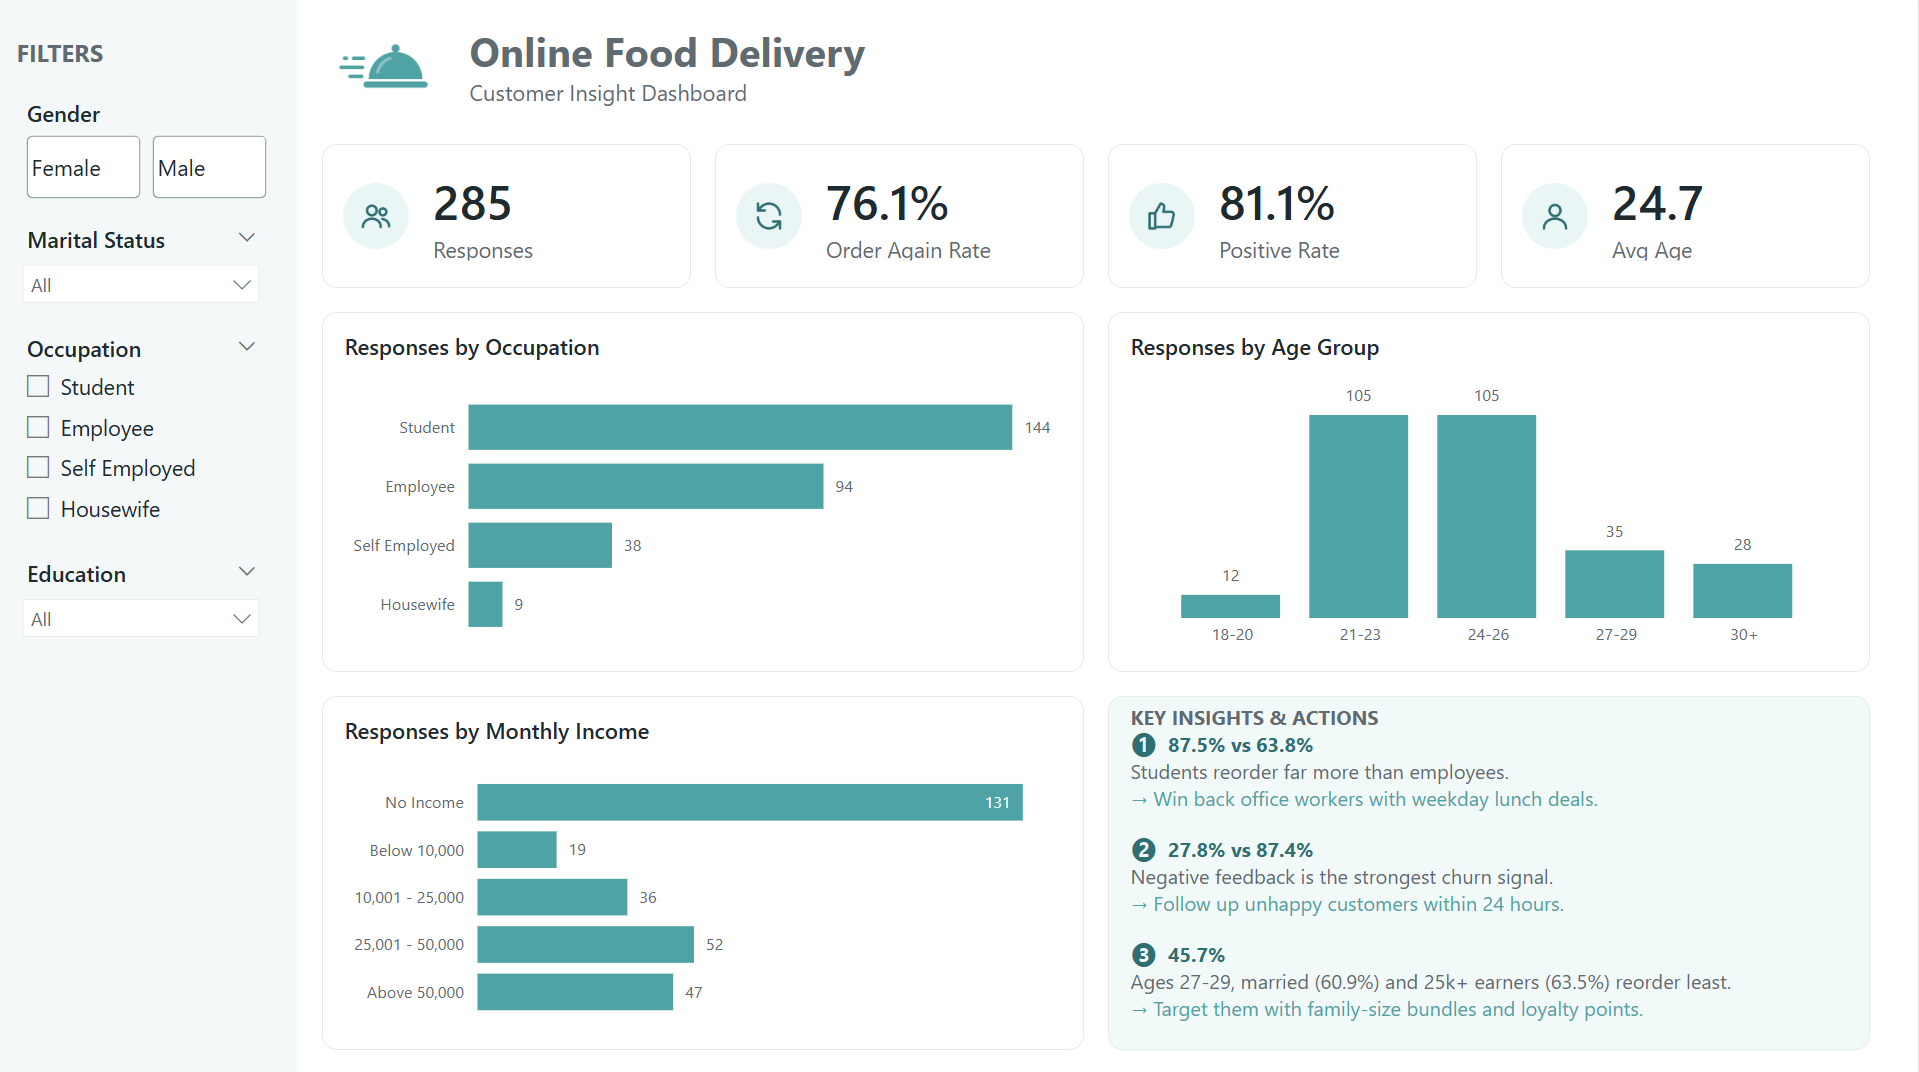

The page's visual inventory and layout, read from the dashboard file:
{"tool":"powerbi","page":{"name":"Overview","canvas":[1280,720],"ordinal":0},"visuals":[{"type":"textbox","box":[740,468,508,236],"z":0},{"type":"cardVisual","fields":{"Data":["_Measures.Positive Rate"]},"box":[740,100,246,96],"z":1000},{"type":"shape","box":[0,0,200,720],"z":2000},{"type":"textbox","box":[300,8,480,86],"z":3000},{"type":"image","box":[212,16,90,64],"z":4000},{"type":"cardVisual","fields":{"Data":["_Measures.Responses"]},"box":[216,100,246,96],"z":5000},{"type":"cardVisual","fields":{"Data":["_Measures.Order Again Rate"]},"box":[478,100,246,96],"z":6000},{"type":"cardVisual","fields":{"Data":["_Measures.Avg Age"]},"box":[1002,100,246,96],"z":7000},{"type":"clusteredBarChart","fields":{"Category":["DimOccupation.Occupation"],"Y":["_Measures.Responses"]},"box":[216,212,508,240],"z":8000},{"type":"clusteredBarChart","fields":{"Category":["DimIncome.Monthly Income"],"Y":["_Measures.Responses"]},"box":[216,468,508,236],"z":9000},{"type":"clusteredColumnChart","fields":{"Category":["DimAgeGroup.Age Group"],"Y":["_Measures.Responses"]},"box":[740,212,508,240],"z":10000},{"type":"textbox","box":[12,28,176,23],"z":11000},{"type":"image","box":[230,126,44,44],"z":12000},{"type":"image","box":[492,126,44,44],"z":13000},{"type":"image","box":[1016,126,44,44],"z":14000},{"type":"image","box":[754,126,44,44],"z":15000},{"type":"slicer","fields":{"Values":["DimMaritalStatus.Marital Status"]},"box":[11,153,168,55],"z":16000},{"type":"slicer","fields":{"Values":["DimOccupation.Occupation"]},"box":[11,225.5,168,133],"z":17000},{"type":"advancedSlicerVisual","fields":{"Values":["DimGender.Gender"]},"box":[19,69,160,67],"z":18000},{"type":"slicer","fields":{"Values":["DimEducation.Education"]},"box":[11,376,168,55],"z":19000}]}

Visuals, with their boxes in screenshot pixels (x1, y1, x2, y2), scaled from the page's 1280x720 canvas onto the 1919x1072 screenshot:
textbox: {"x1": 1109, "y1": 697, "x2": 1871, "y2": 1048}
cardVisual - _Measures.Positive Rate: {"x1": 1109, "y1": 149, "x2": 1478, "y2": 292}
shape: {"x1": 0, "y1": 0, "x2": 300, "y2": 1071}
textbox: {"x1": 450, "y1": 12, "x2": 1169, "y2": 140}
image: {"x1": 318, "y1": 24, "x2": 453, "y2": 119}
cardVisual - _Measures.Responses: {"x1": 324, "y1": 149, "x2": 693, "y2": 292}
cardVisual - _Measures.Order Again Rate: {"x1": 717, "y1": 149, "x2": 1085, "y2": 292}
cardVisual - _Measures.Avg Age: {"x1": 1502, "y1": 149, "x2": 1871, "y2": 292}
clusteredBarChart - DimOccupation.Occupation x _Measures.Responses: {"x1": 324, "y1": 316, "x2": 1085, "y2": 673}
clusteredBarChart - DimIncome.Monthly Income x _Measures.Responses: {"x1": 324, "y1": 697, "x2": 1085, "y2": 1048}
clusteredColumnChart - DimAgeGroup.Age Group x _Measures.Responses: {"x1": 1109, "y1": 316, "x2": 1871, "y2": 673}
textbox: {"x1": 18, "y1": 42, "x2": 282, "y2": 76}
image: {"x1": 345, "y1": 188, "x2": 411, "y2": 253}
image: {"x1": 738, "y1": 188, "x2": 804, "y2": 253}
image: {"x1": 1523, "y1": 188, "x2": 1589, "y2": 253}
image: {"x1": 1130, "y1": 188, "x2": 1196, "y2": 253}
slicer - DimMaritalStatus.Marital Status: {"x1": 16, "y1": 228, "x2": 268, "y2": 310}
slicer - DimOccupation.Occupation: {"x1": 16, "y1": 336, "x2": 268, "y2": 534}
advancedSlicerVisual - DimGender.Gender: {"x1": 28, "y1": 103, "x2": 268, "y2": 202}
slicer - DimEducation.Education: {"x1": 16, "y1": 560, "x2": 268, "y2": 642}
